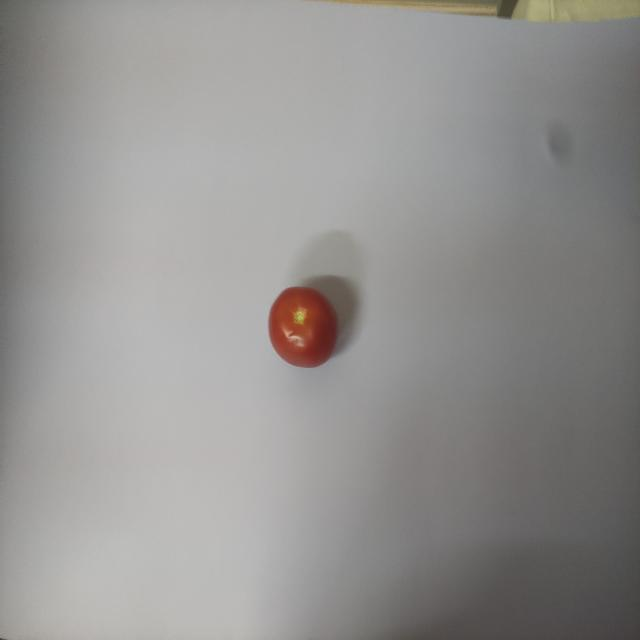kirmizi: (252, 273, 353, 385)
